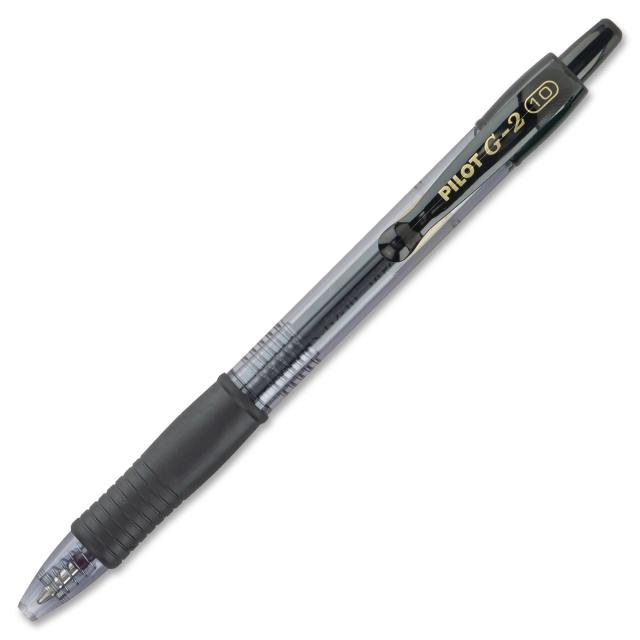pen: (0, 15, 623, 640)
